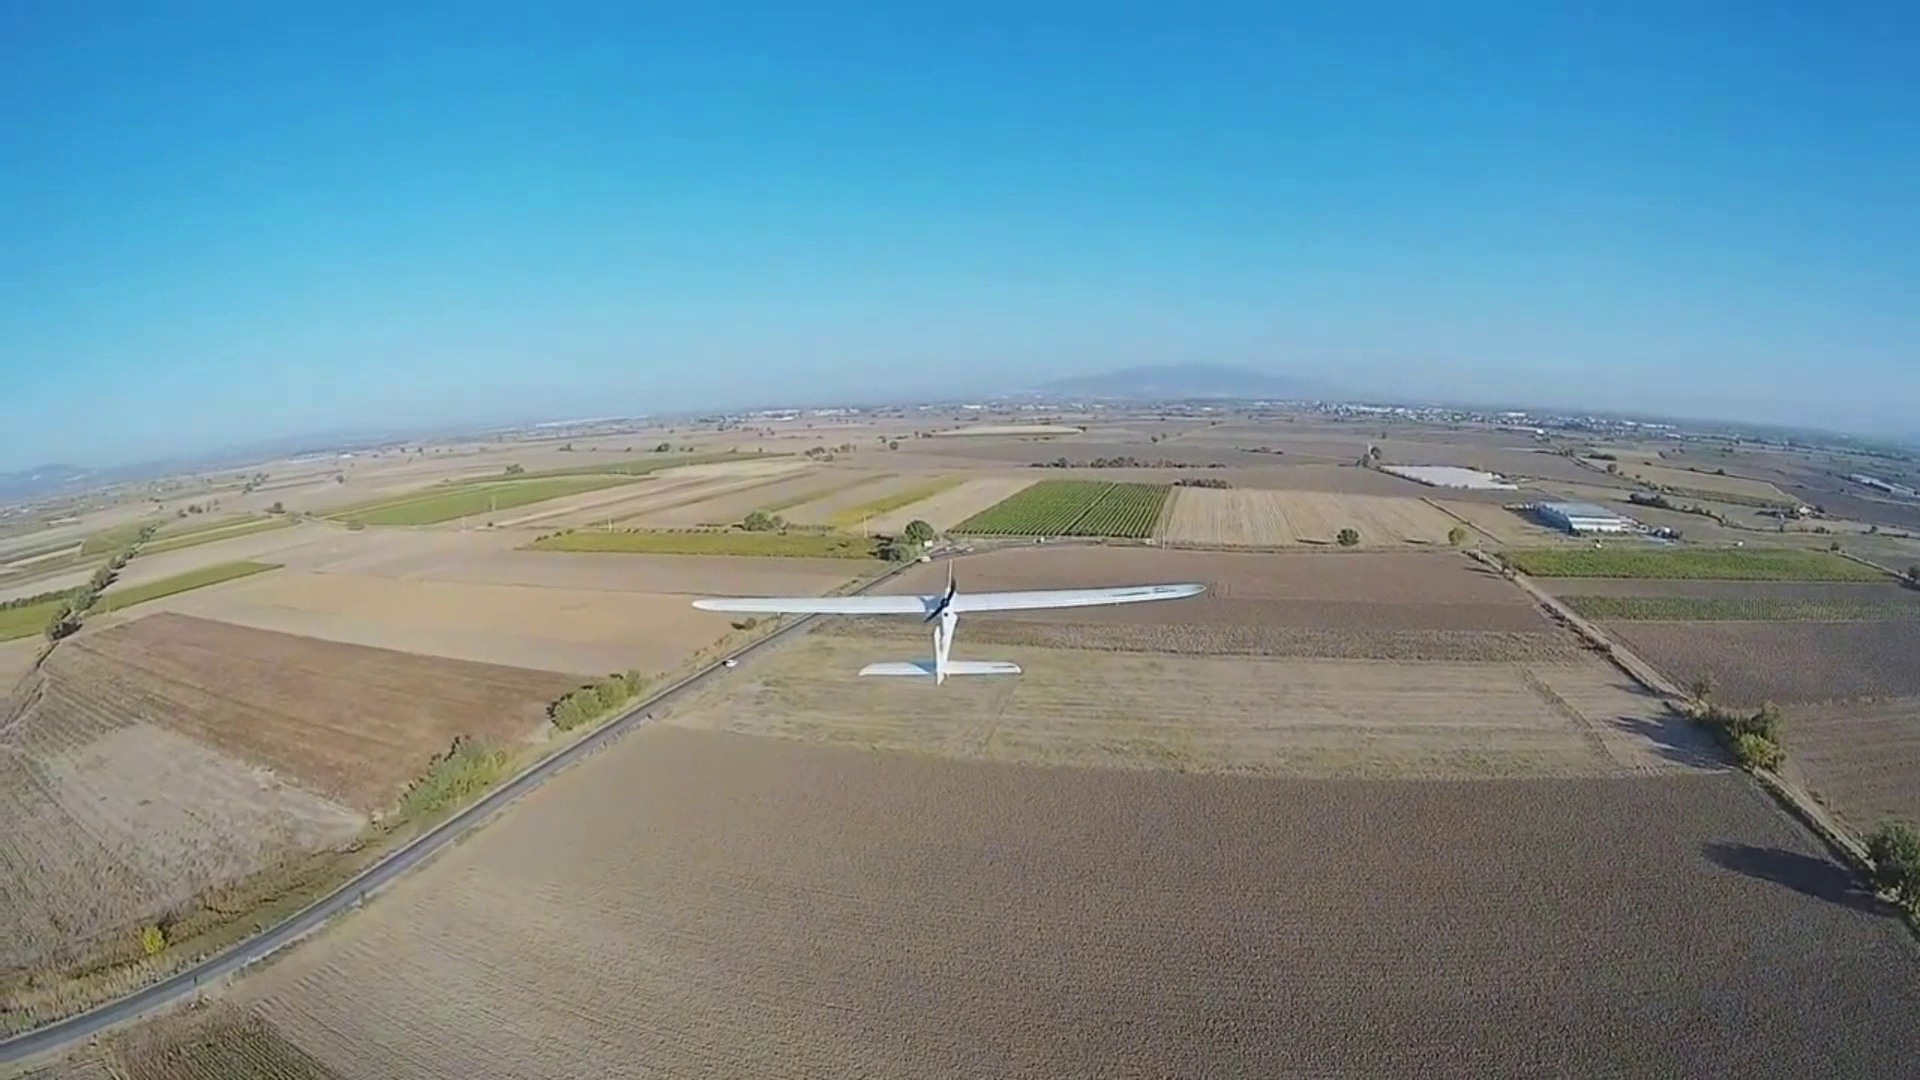airplane: (688, 542, 1207, 680)
